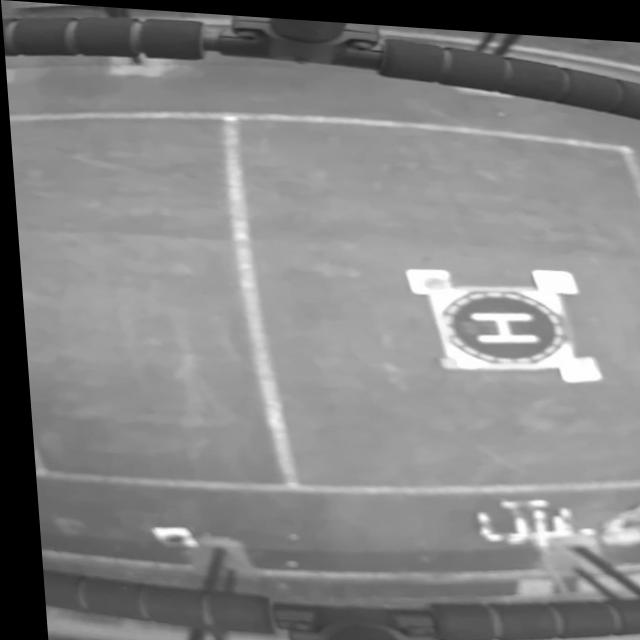Helipad: (462, 306, 535, 337)
